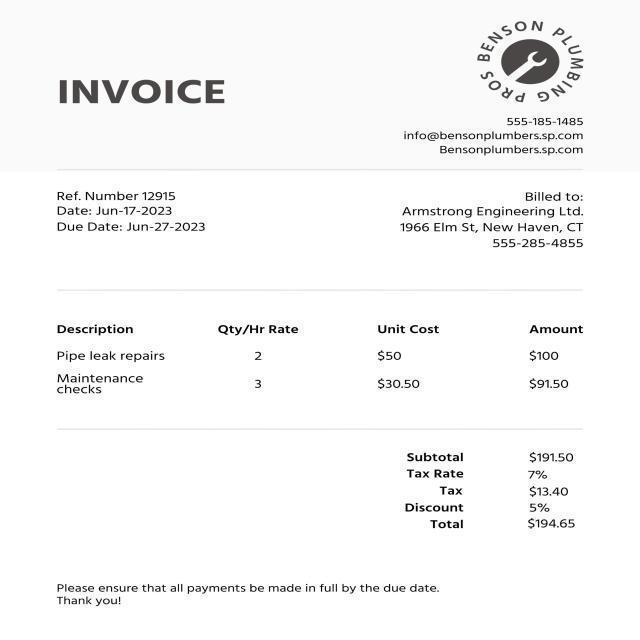paragraph: (398, 441, 593, 540), (390, 182, 596, 260), (49, 576, 448, 614), (470, 10, 588, 103), (396, 109, 588, 164), (50, 181, 218, 237), (43, 71, 245, 115)
table: (20, 285, 627, 428)
